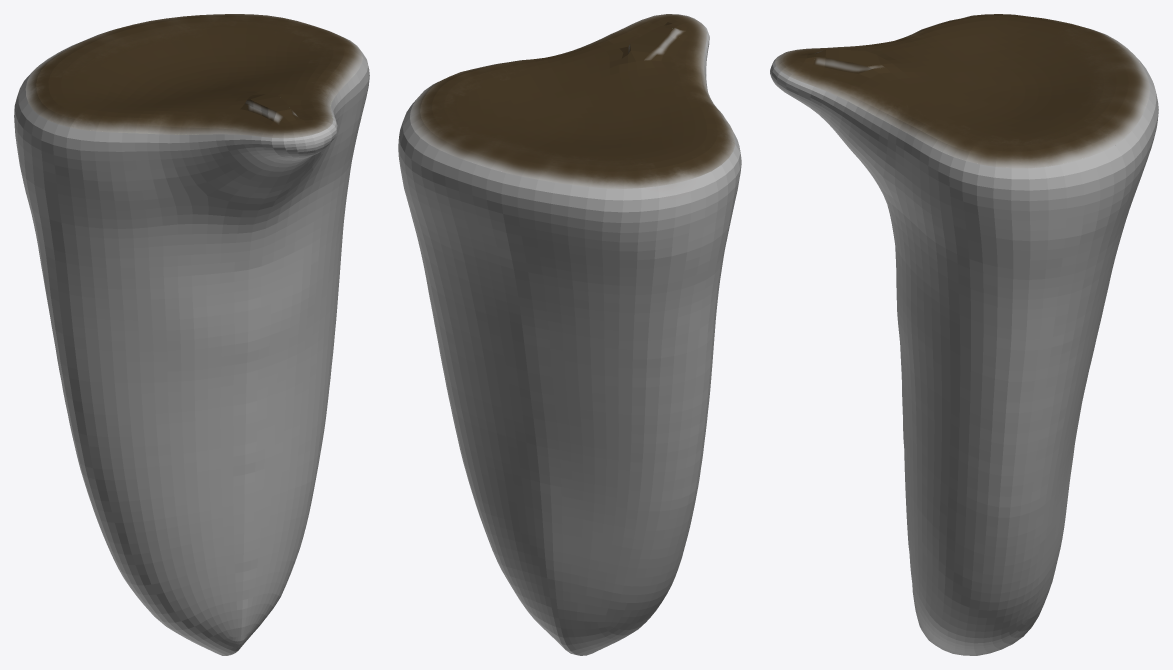
Rendered from Cliff.fbx.
The picture shows the model from 3 angles, left to right: view 1: azimuth 30°, elevation 25°; view 2: azimuth 150°, elevation 25°; view 3: azimuth 270°, elevation 25°; orthographic projection. The views are drawn at different scales.
Parts seen in each view (by area): view 1: Cliff; view 2: Cliff; view 3: Cliff.
Part boxes in pixels (box(x1,y1,x2,y2)): Cliff: box(14, 14, 369, 655); Cliff: box(398, 14, 741, 655); Cliff: box(770, 14, 1158, 655).
Bounding box in the file's own units: 415 × 726 × 427.
